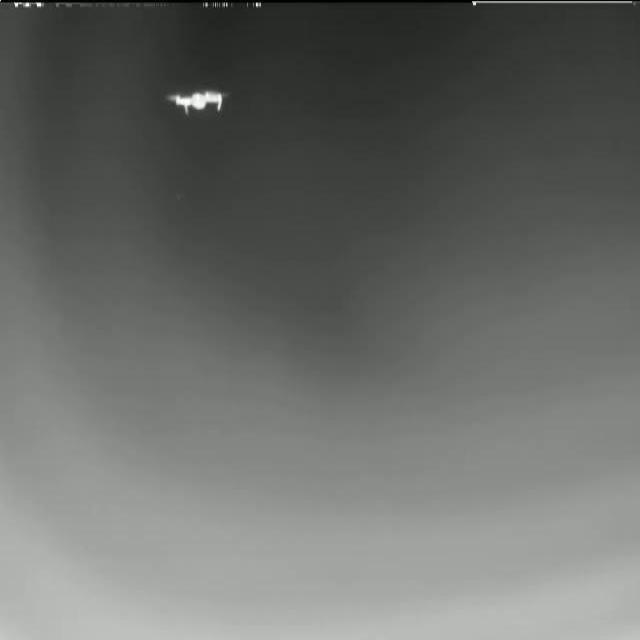DRONE: (162, 85, 228, 116)
